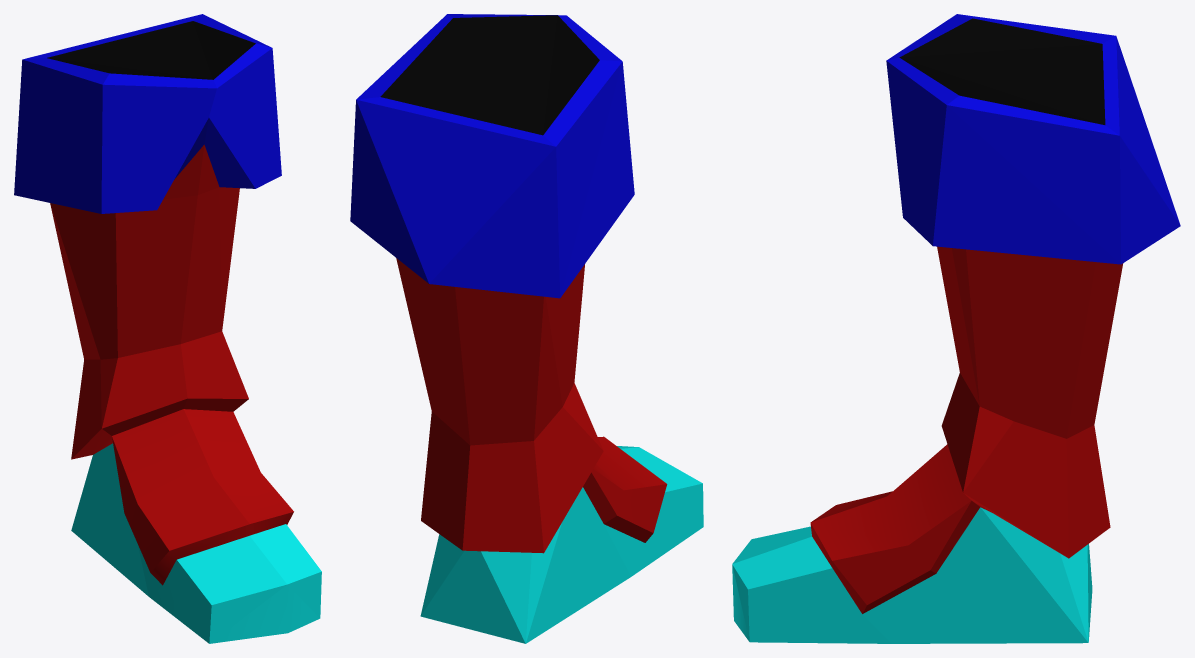
File: Chr_LegLeft_Male_Static_19.fbx
3 renders of one model, left to right at view 1: azimuth 30°, elevation 25°; view 2: azimuth 150°, elevation 25°; view 3: azimuth 270°, elevation 25°, orthographic. The views are drawn at different scales.
Visible parts, largest first — view 1: Chr_LegLeft_Male_19; view 2: Chr_LegLeft_Male_19; view 3: Chr_LegLeft_Male_19.
Part boxes in pixels (bbox=[...]): Chr_LegLeft_Male_19: bbox=[14, 14, 321, 643]; Chr_LegLeft_Male_19: bbox=[350, 14, 703, 643]; Chr_LegLeft_Male_19: bbox=[732, 14, 1180, 643].
Bounding box in the file's own units: 16.3 × 40.45 × 29.23.
